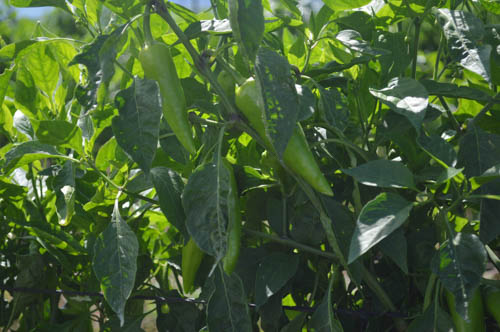ChiliPepper: (237, 78, 329, 192), (143, 46, 196, 150), (212, 163, 236, 270), (180, 239, 201, 292)
